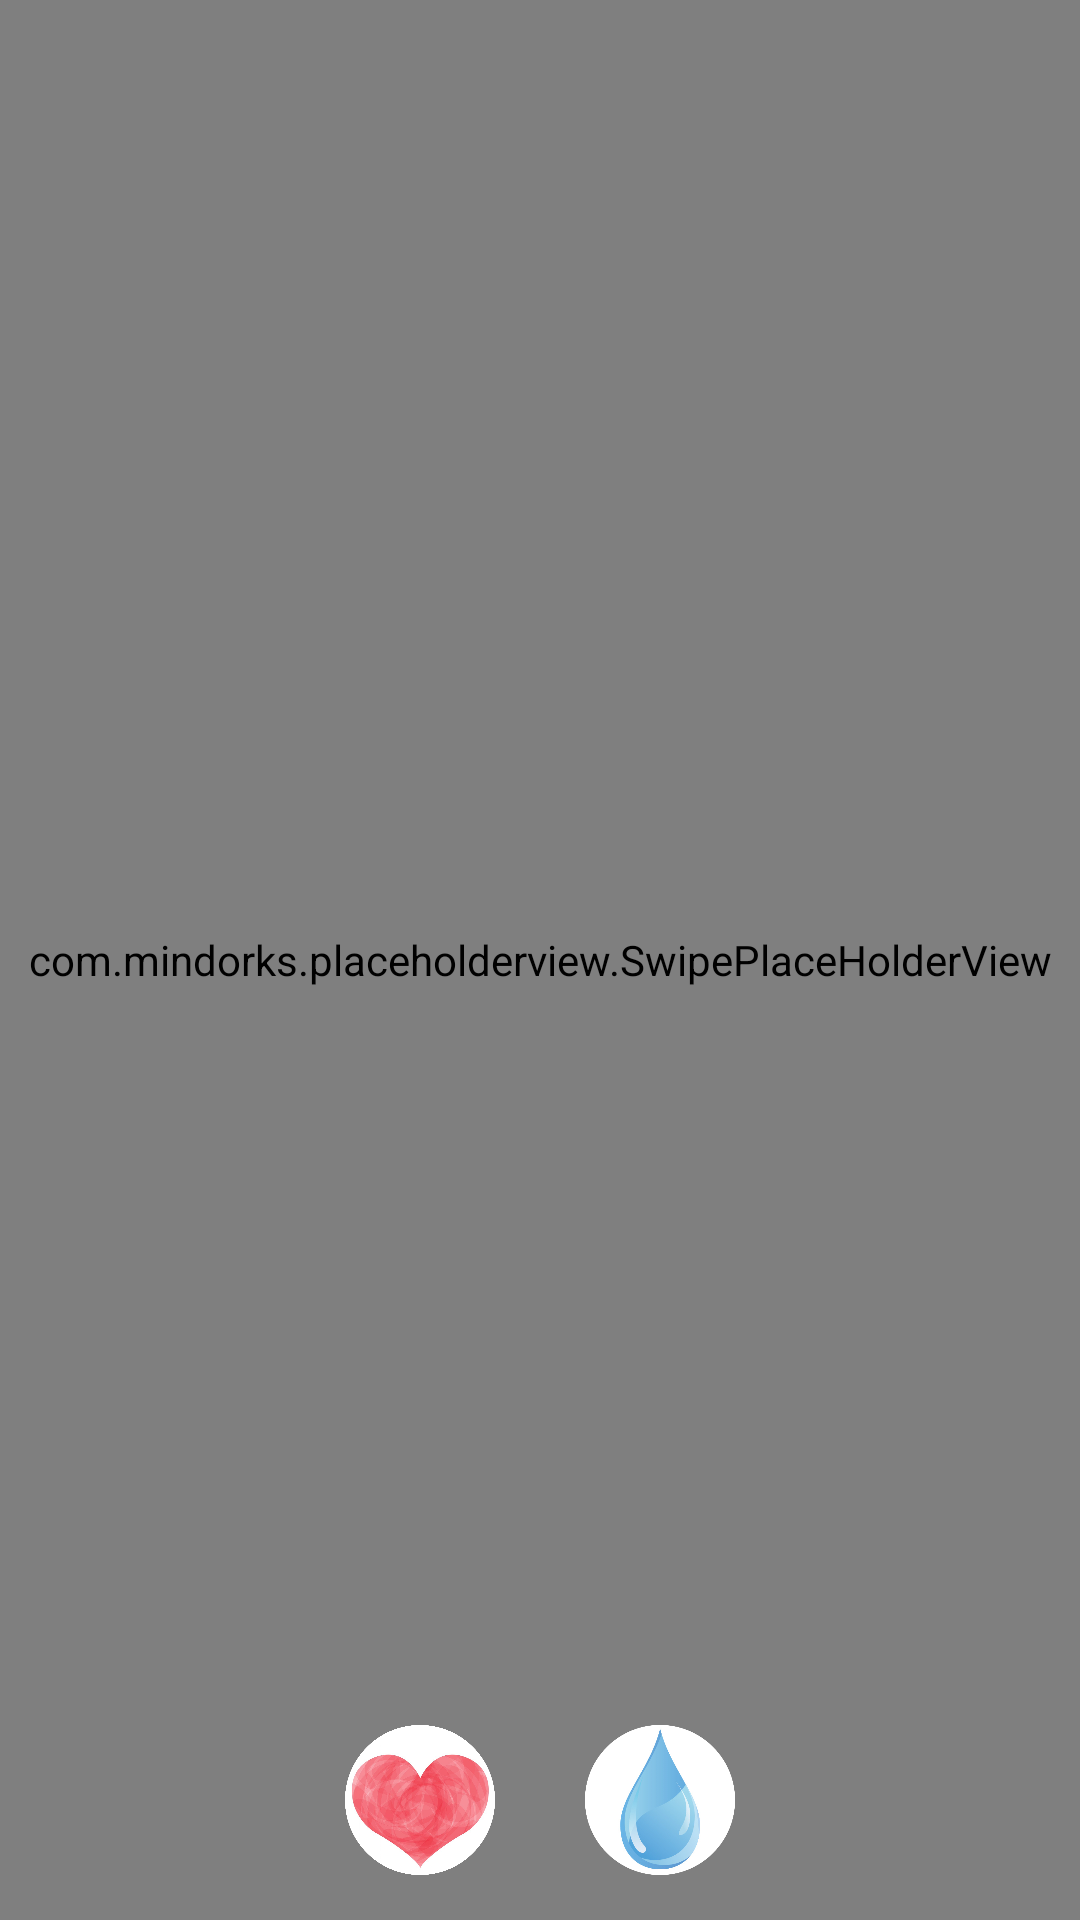

Icons on this 1080w x 1920h Android screen, each with its box as (x1, y1, x2, y2):
dropbutton: (585, 1725, 735, 1875)
heartbutton: (345, 1725, 495, 1875)
